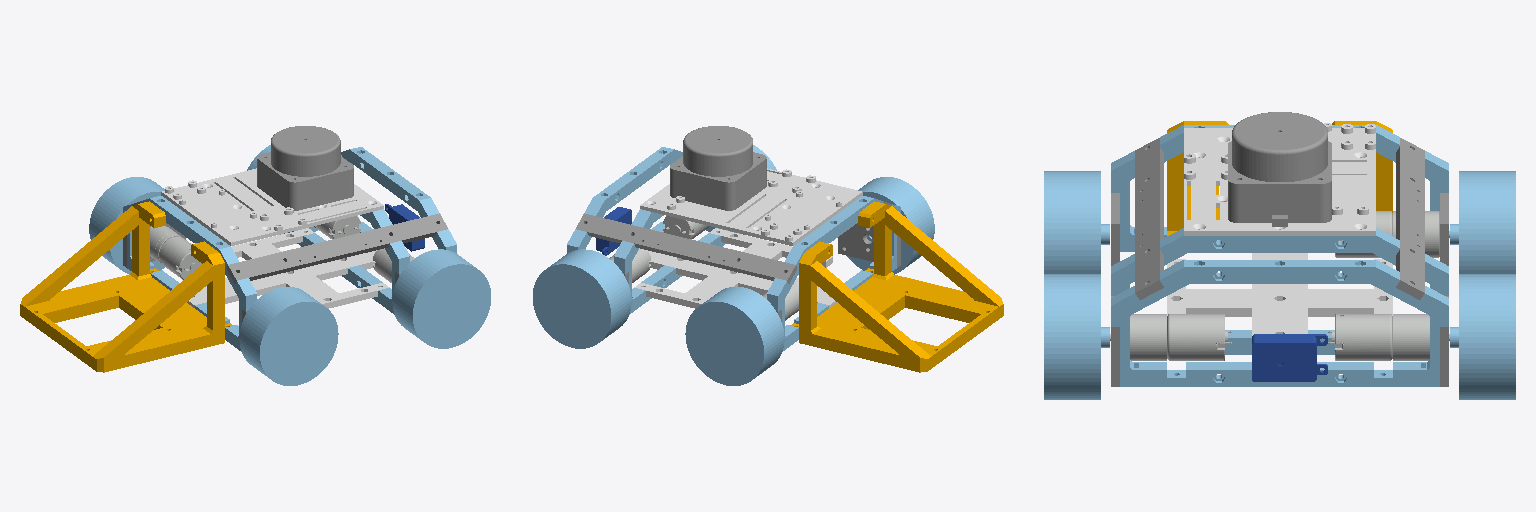
URDF robot description (simplebot2):
<?xml version="1.0" ?>
<!-- Generated using onshape-to-robot -->
<!-- Onshape https://cad.onshape.com/documents/58d69eaf54d5097cb2ee2932/w/94ca09f7b1264f3339bd84c4/e/3159eab8c0fb4f293d9f6567 -->
<robot name="simplebot2">
  <!-- Link bottom_bracket -->
  <link name="bottom_bracket">
    <inertial>
      <origin xyz="-3.23026e-10 4.0693e-18 0.0211091" rpy="0 0 0"/>
      <mass value="0.426296"/>
      <inertia ixx="0.00184221" ixy="9.36048e-11" ixz="-1.22606e-12" iyy="0.00190478" iyz="2.8119e-08" izz="0.00332037"/>
    </inertial>
    <!-- Part frame3 -->
    <visual>
      <origin xyz="-0.085 2.42861e-17 -0.005" rpy="0 -0 -1.5708"/>
      <geometry>
        <mesh filename="package://assets/frame3.stl"/>
      </geometry>
      <material name="frame3_material">
        <color rgba="0.615686 0.811765 0.929412 1"/>
      </material>
    </visual>
    <collision>
      <origin xyz="-0.085 2.42861e-17 -0.005" rpy="0 -0 -1.5708"/>
      <geometry>
        <mesh filename="package://assets/frame3.stl"/>
      </geometry>
    </collision>
    <!-- Part side_bracket_right -->
    <visual>
      <origin xyz="-0.085 1.04083e-17 -0.005" rpy="0 -0 -1.5708"/>
      <geometry>
        <mesh filename="package://assets/side_bracket_right.stl"/>
      </geometry>
      <material name="side_bracket_right_material">
        <color rgba="0.647059 0.647059 0.647059 1"/>
      </material>
    </visual>
    <collision>
      <origin xyz="-0.085 1.04083e-17 -0.005" rpy="0 -0 -1.5708"/>
      <geometry>
        <mesh filename="package://assets/side_bracket_right.stl"/>
      </geometry>
    </collision>
    <!-- Part frame2 -->
    <visual>
      <origin xyz="-0.085 1.38778e-17 -0.005" rpy="0 -0 -1.5708"/>
      <geometry>
        <mesh filename="package://assets/frame2.stl"/>
      </geometry>
      <material name="frame2_material">
        <color rgba="0.615686 0.811765 0.929412 1"/>
      </material>
    </visual>
    <collision>
      <origin xyz="-0.085 1.38778e-17 -0.005" rpy="0 -0 -1.5708"/>
      <geometry>
        <mesh filename="package://assets/frame2.stl"/>
      </geometry>
    </collision>
    <!-- Part part_33 -->
    <visual>
      <origin xyz="-0.085 2.42861e-17 -0.005" rpy="0 -0 -1.5708"/>
      <geometry>
        <mesh filename="package://assets/part_33.stl"/>
      </geometry>
      <material name="part_33_material">
        <color rgba="0.980392 0.713725 0.00392157 1"/>
      </material>
    </visual>
    <collision>
      <origin xyz="-0.085 2.42861e-17 -0.005" rpy="0 -0 -1.5708"/>
      <geometry>
        <mesh filename="package://assets/part_33.stl"/>
      </geometry>
    </collision>
    <!-- Part motor_bracket_front_right -->
    <visual>
      <origin xyz="-0.085 2.77556e-17 -0.005" rpy="0 -0 -1.5708"/>
      <geometry>
        <mesh filename="package://assets/motor_bracket_front_right.stl"/>
      </geometry>
      <material name="motor_bracket_front_right_material">
        <color rgba="0.647059 0.647059 0.647059 1"/>
      </material>
    </visual>
    <collision>
      <origin xyz="-0.085 2.77556e-17 -0.005" rpy="0 -0 -1.5708"/>
      <geometry>
        <mesh filename="package://assets/motor_bracket_front_right.stl"/>
      </geometry>
    </collision>
    <!-- Part part_1 -->
    <visual>
      <origin xyz="-0.085 2.42861e-17 -0.005" rpy="0 -0 -1.5708"/>
      <geometry>
        <mesh filename="package://assets/part_1.stl"/>
      </geometry>
      <material name="part_1_material">
        <color rgba="0.647059 0.647059 0.647059 1"/>
      </material>
    </visual>
    <collision>
      <origin xyz="-0.085 2.42861e-17 -0.005" rpy="0 -0 -1.5708"/>
      <geometry>
        <mesh filename="package://assets/part_1.stl"/>
      </geometry>
    </collision>
    <!-- Part motor_bracket_front_left -->
    <visual>
      <origin xyz="-0.085 2.77556e-17 -0.005" rpy="0 -0 -1.5708"/>
      <geometry>
        <mesh filename="package://assets/motor_bracket_front_left.stl"/>
      </geometry>
      <material name="motor_bracket_front_left_material">
        <color rgba="0.647059 0.647059 0.647059 1"/>
      </material>
    </visual>
    <collision>
      <origin xyz="-0.085 2.77556e-17 -0.005" rpy="0 -0 -1.5708"/>
      <geometry>
        <mesh filename="package://assets/motor_bracket_front_left.stl"/>
      </geometry>
    </collision>
    <!-- Part frame4 -->
    <visual>
      <origin xyz="-0.085 2.1684e-17 -0.005" rpy="0 -0 -1.5708"/>
      <geometry>
        <mesh filename="package://assets/frame4.stl"/>
      </geometry>
      <material name="frame4_material">
        <color rgba="0.615686 0.811765 0.929412 1"/>
      </material>
    </visual>
    <collision>
      <origin xyz="-0.085 2.1684e-17 -0.005" rpy="0 -0 -1.5708"/>
      <geometry>
        <mesh filename="package://assets/frame4.stl"/>
      </geometry>
    </collision>
    <!-- Part motor_bracket_rear_left -->
    <visual>
      <origin xyz="-0.085 1.04083e-17 -0.005" rpy="0 -0 -1.5708"/>
      <geometry>
        <mesh filename="package://assets/motor_bracket_rear_left.stl"/>
      </geometry>
      <material name="motor_bracket_rear_left_material">
        <color rgba="0.647059 0.647059 0.647059 1"/>
      </material>
    </visual>
    <collision>
      <origin xyz="-0.085 1.04083e-17 -0.005" rpy="0 -0 -1.5708"/>
      <geometry>
        <mesh filename="package://assets/motor_bracket_rear_left.stl"/>
      </geometry>
    </collision>
    <!-- Part part_1_2 -->
    <visual>
      <origin xyz="-0.085 3.46945e-18 -0.005" rpy="-6.16298e-33 -0 -1.5708"/>
      <geometry>
        <mesh filename="package://assets/part_1__2.stl"/>
      </geometry>
      <material name="part_1_2_material">
        <color rgba="0.231373 0.380392 0.705882 1"/>
      </material>
    </visual>
    <collision>
      <origin xyz="-0.085 3.46945e-18 -0.005" rpy="-6.16298e-33 -0 -1.5708"/>
      <geometry>
        <mesh filename="package://assets/part_1__2.stl"/>
      </geometry>
    </collision>
    <!-- Part part_22 -->
    <visual>
      <origin xyz="-0.085 2.42861e-17 -0.005" rpy="0 -0 -1.5708"/>
      <geometry>
        <mesh filename="package://assets/part_22.stl"/>
      </geometry>
      <material name="part_22_material">
        <color rgba="0.917647 0.917647 0.917647 1"/>
      </material>
    </visual>
    <collision>
      <origin xyz="-0.085 2.42861e-17 -0.005" rpy="0 -0 -1.5708"/>
      <geometry>
        <mesh filename="package://assets/part_22.stl"/>
      </geometry>
    </collision>
    <!-- Part motor_bracket_rear_right -->
    <visual>
      <origin xyz="-0.085 1.04083e-17 -0.005" rpy="0 -0 -1.5708"/>
      <geometry>
        <mesh filename="package://assets/motor_bracket_rear_right.stl"/>
      </geometry>
      <material name="motor_bracket_rear_right_material">
        <color rgba="0.647059 0.647059 0.647059 1"/>
      </material>
    </visual>
    <collision>
      <origin xyz="-0.085 1.04083e-17 -0.005" rpy="0 -0 -1.5708"/>
      <geometry>
        <mesh filename="package://assets/motor_bracket_rear_right.stl"/>
      </geometry>
    </collision>
    <!-- Part frame1 -->
    <visual>
      <origin xyz="-0.085 1.04083e-17 -0.005" rpy="0 -0 -1.5708"/>
      <geometry>
        <mesh filename="package://assets/frame1.stl"/>
      </geometry>
      <material name="frame1_material">
        <color rgba="0.615686 0.811765 0.929412 1"/>
      </material>
    </visual>
    <collision>
      <origin xyz="-0.085 1.04083e-17 -0.005" rpy="0 -0 -1.5708"/>
      <geometry>
        <mesh filename="package://assets/frame1.stl"/>
      </geometry>
    </collision>
    <!-- Part side_bracket_left -->
    <visual>
      <origin xyz="-0.085 1.04083e-17 -0.005" rpy="0 -0 -1.5708"/>
      <geometry>
        <mesh filename="package://assets/side_bracket_left.stl"/>
      </geometry>
      <material name="side_bracket_left_material">
        <color rgba="0.647059 0.647059 0.647059 1"/>
      </material>
    </visual>
    <collision>
      <origin xyz="-0.085 1.04083e-17 -0.005" rpy="0 -0 -1.5708"/>
      <geometry>
        <mesh filename="package://assets/side_bracket_left.stl"/>
      </geometry>
    </collision>
    <!-- Part motor_front_right -->
    <visual>
      <origin xyz="0.0475 0 0.1625" rpy="-1.5708 -0 -1.5708"/>
      <geometry>
        <mesh filename="package://assets/motor_front_right.stl"/>
      </geometry>
      <material name="motor_front_right_material">
        <color rgba="0.8 0.807843 0.8 1"/>
      </material>
    </visual>
    <collision>
      <origin xyz="0.0475 0 0.1625" rpy="-1.5708 -0 -1.5708"/>
      <geometry>
        <mesh filename="package://assets/motor_front_right.stl"/>
      </geometry>
    </collision>
    <!-- Part motor_rear_left -->
    <visual>
      <origin xyz="-0.0825 1.38778e-17 0.0325" rpy="-1.5708 -0 -1.5708"/>
      <geometry>
        <mesh filename="package://assets/motor_rear_left.stl"/>
      </geometry>
      <material name="motor_rear_left_material">
        <color rgba="0.8 0.807843 0.8 1"/>
      </material>
    </visual>
    <collision>
      <origin xyz="-0.0825 1.38778e-17 0.0325" rpy="-1.5708 -0 -1.5708"/>
      <geometry>
        <mesh filename="package://assets/motor_rear_left.stl"/>
      </geometry>
    </collision>
    <!-- Part motor_rear_right -->
    <visual>
      <origin xyz="-0.0475 1.04083e-17 -0.0075" rpy="1.5708 -0 -1.5708"/>
      <geometry>
        <mesh filename="package://assets/motor_rear_right.stl"/>
      </geometry>
      <material name="motor_rear_right_material">
        <color rgba="0.8 0.807843 0.8 1"/>
      </material>
    </visual>
    <collision>
      <origin xyz="-0.0475 1.04083e-17 -0.0075" rpy="1.5708 -0 -1.5708"/>
      <geometry>
        <mesh filename="package://assets/motor_rear_right.stl"/>
      </geometry>
    </collision>
    <!-- Part bottom_bracket -->
    <visual>
      <origin xyz="-0.085 -6.93889e-18 -0.005" rpy="0 -2.31296e-16 -1.5708"/>
      <geometry>
        <mesh filename="package://assets/bottom_bracket.stl"/>
      </geometry>
      <material name="bottom_bracket_material">
        <color rgba="0.917647 0.917647 0.917647 1"/>
      </material>
    </visual>
    <collision>
      <origin xyz="-0.085 -6.93889e-18 -0.005" rpy="0 -2.31296e-16 -1.5708"/>
      <geometry>
        <mesh filename="package://assets/bottom_bracket.stl"/>
      </geometry>
    </collision>
    <!-- Part part_27 -->
    <visual>
      <origin xyz="-0.085 1.04083e-17 -0.00744" rpy="0 -0 -1.5708"/>
      <geometry>
        <mesh filename="package://assets/part_27.stl"/>
      </geometry>
      <material name="part_27_material">
        <color rgba="0.980392 0.713725 0.00392157 1"/>
      </material>
    </visual>
    <collision>
      <origin xyz="-0.085 1.04083e-17 -0.00744" rpy="0 -0 -1.5708"/>
      <geometry>
        <mesh filename="package://assets/part_27.stl"/>
      </geometry>
    </collision>
    <!-- Part motor_front_left -->
    <visual>
      <origin xyz="0.0825 -6.93889e-18 -0.1375" rpy="1.5708 -0 -1.5708"/>
      <geometry>
        <mesh filename="package://assets/motor_front_left.stl"/>
      </geometry>
      <material name="motor_front_left_material">
        <color rgba="0.8 0.807843 0.8 1"/>
      </material>
    </visual>
    <collision>
      <origin xyz="0.0825 -6.93889e-18 -0.1375" rpy="1.5708 -0 -1.5708"/>
      <geometry>
        <mesh filename="package://assets/motor_front_left.stl"/>
      </geometry>
    </collision>
  </link>
  <!-- Link part_1 -->
  <link name="part_1">
    <inertial>
      <origin xyz="0 0 0" rpy="0 0 0"/>
      <mass value="1e-09"/>
      <inertia ixx="1e-09" ixy="0" ixz="0" iyy="1e-09" iyz="0" izz="1e-09"/>
    </inertial>
    <!-- Part part_1_3 -->
    <visual>
      <origin xyz="0 0 0.0075" rpy="1.5708 1.5708 0"/>
      <geometry>
        <mesh filename="package://assets/part_1__3.stl"/>
      </geometry>
      <material name="part_1_3_material">
        <color rgba="0.615686 0.811765 0.929412 1"/>
      </material>
    </visual>
    <collision>
      <origin xyz="0 0 0.0075" rpy="1.5708 1.5708 0"/>
      <geometry>
        <mesh filename="package://assets/part_1__3.stl"/>
      </geometry>
    </collision>
  </link>
  <!-- Joint from bottom_bracket to part_1 -->
  <joint name="Revolute 1" type="revolute">
    <origin xyz="-0.065 -0.103008 0.0125" rpy="-1.5708 -0 -1.66533e-16"/>
    <parent link="bottom_bracket"/>
    <child link="part_1"/>
    <axis xyz="0 0 1"/>
    <limit effort="10" velocity="10" lower="-3.141592653589793" upper="3.141592653589793"/>
  </joint>
  <!-- Link part_1_2 -->
  <link name="part_1_2">
    <inertial>
      <origin xyz="0 0 0" rpy="0 0 0"/>
      <mass value="1e-09"/>
      <inertia ixx="1e-09" ixy="0" ixz="0" iyy="1e-09" iyz="0" izz="1e-09"/>
    </inertial>
    <!-- Part part_1_4 -->
    <visual>
      <origin xyz="0 0 0.0075" rpy="1.5708 1.5708 0"/>
      <geometry>
        <mesh filename="package://assets/part_1__3.stl"/>
      </geometry>
      <material name="part_1_4_material">
        <color rgba="0.615686 0.811765 0.929412 1"/>
      </material>
    </visual>
    <collision>
      <origin xyz="0 0 0.0075" rpy="1.5708 1.5708 0"/>
      <geometry>
        <mesh filename="package://assets/part_1__3.stl"/>
      </geometry>
    </collision>
  </link>
  <!-- Joint from bottom_bracket to part_1_2 -->
  <joint name="Revolute 2" type="revolute">
    <origin xyz="0.065 -0.103008 0.0125" rpy="-1.5708 -0 -1.66533e-16"/>
    <parent link="bottom_bracket"/>
    <child link="part_1_2"/>
    <axis xyz="0 0 1"/>
    <limit effort="10" velocity="10" lower="-3.141592653589793" upper="3.141592653589793"/>
  </joint>
  <!-- Link part_1_3 -->
  <link name="part_1_3">
    <inertial>
      <origin xyz="0 0 0" rpy="0 0 0"/>
      <mass value="1e-09"/>
      <inertia ixx="1e-09" ixy="0" ixz="0" iyy="1e-09" iyz="0" izz="1e-09"/>
    </inertial>
    <!-- Part part_1_5 -->
    <visual>
      <origin xyz="0 0 -0.0075" rpy="-1.5708 -1.5708 0"/>
      <geometry>
        <mesh filename="package://assets/part_1__3.stl"/>
      </geometry>
      <material name="part_1_5_material">
        <color rgba="0.615686 0.811765 0.929412 1"/>
      </material>
    </visual>
    <collision>
      <origin xyz="0 0 -0.0075" rpy="-1.5708 -1.5708 0"/>
      <geometry>
        <mesh filename="package://assets/part_1__3.stl"/>
      </geometry>
    </collision>
  </link>
  <!-- Joint from bottom_bracket to part_1_3 -->
  <joint name="Revolute 3" type="revolute">
    <origin xyz="0.065 0.103008 0.0125" rpy="-1.5708 -0 -1.66533e-16"/>
    <parent link="bottom_bracket"/>
    <child link="part_1_3"/>
    <axis xyz="0 0 1"/>
    <limit effort="10" velocity="10" lower="-3.141592653589793" upper="3.141592653589793"/>
  </joint>
  <!-- Link part_1_4 -->
  <link name="part_1_4">
    <inertial>
      <origin xyz="0 0 0" rpy="0 0 0"/>
      <mass value="1e-09"/>
      <inertia ixx="1e-09" ixy="0" ixz="0" iyy="1e-09" iyz="0" izz="1e-09"/>
    </inertial>
    <!-- Part part_1_6 -->
    <visual>
      <origin xyz="0 0 -0.0075" rpy="-1.5708 -1.5708 0"/>
      <geometry>
        <mesh filename="package://assets/part_1__3.stl"/>
      </geometry>
      <material name="part_1_6_material">
        <color rgba="0.615686 0.811765 0.929412 1"/>
      </material>
    </visual>
    <collision>
      <origin xyz="0 0 -0.0075" rpy="-1.5708 -1.5708 0"/>
      <geometry>
        <mesh filename="package://assets/part_1__3.stl"/>
      </geometry>
    </collision>
  </link>
  <!-- Joint from bottom_bracket to part_1_4 -->
  <joint name="Revolute 4" type="revolute">
    <origin xyz="-0.065 0.103008 0.0125" rpy="-1.5708 -0 -1.66533e-16"/>
    <parent link="bottom_bracket"/>
    <child link="part_1_4"/>
    <axis xyz="0 0 1"/>
    <limit effort="10" velocity="10" lower="-3.141592653589793" upper="3.141592653589793"/>
  </joint>
</robot>

--- What the picture shows (computed from the rendered views, not written in the file) ---
The picture shows the robot from 3 angles, left to right: view 1: azimuth 30°, elevation 25°; view 2: azimuth 150°, elevation 25°; view 3: azimuth 270°, elevation 25°; orthographic projection.
Model simplebot2 with 5 links and 4 joints (4 revolute), rooted at bottom_bracket, posed all joints at 0.
Links seen in each view (by area): view 1: bottom_bracket, part_1, part_1_2, part_1_4; view 2: bottom_bracket, part_1_4, part_1_3, part_1; view 3: bottom_bracket, part_1_2, part_1_3, part_1, part_1_4.
Link boxes in pixels (<box>): bottom_bracket: <box>20,126,456,372</box>; part_1: <box>239,287,338,385</box>; part_1_2: <box>392,249,490,348</box>; part_1_4: <box>89,177,164,274</box>; bottom_bracket: <box>567,126,1003,372</box>; part_1_4: <box>685,287,784,385</box>; part_1_3: <box>533,249,631,348</box>; part_1: <box>847,177,934,274</box>; bottom_bracket: <box>1110,112,1449,386</box>; part_1_2: <box>1044,274,1109,399</box>; part_1_3: <box>1450,274,1515,399</box>; part_1: <box>1044,171,1109,273</box>; part_1_4: <box>1450,171,1515,273</box>.
Bounding box of the posed robot: 0.3025 × 0.251 × 0.1305 m (x, y, z).
21 mesh visuals loaded from 21 distinct referenced files (18 binary STL); not drawn: 3 (reference not matched to a file when rendering).